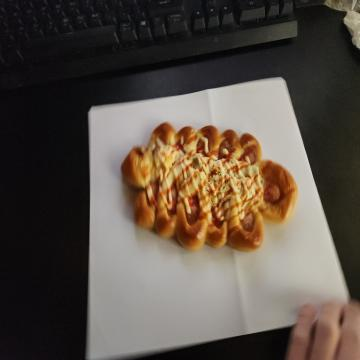pizza_bread: (122, 124, 296, 253)
